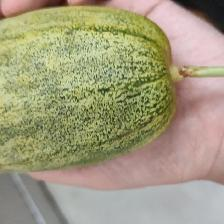gua: (2, 10, 206, 174)
